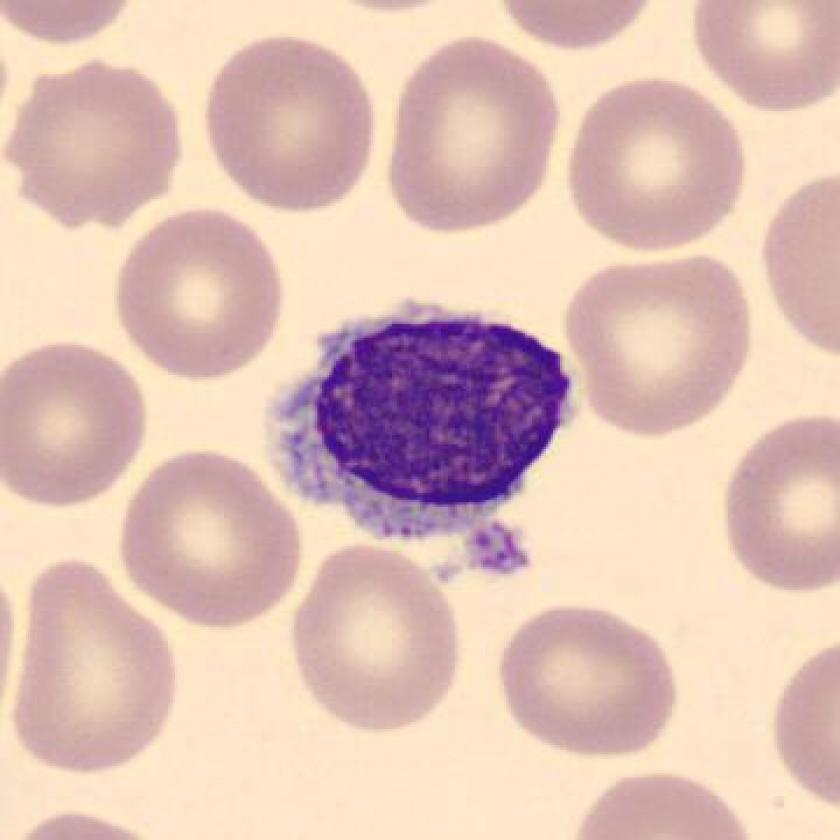lymphocyte: (253, 279, 601, 589)
